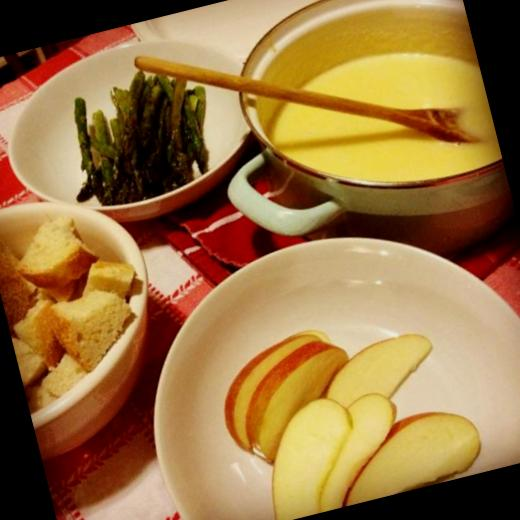Apple: (202, 297, 466, 520), (325, 398, 487, 506)
